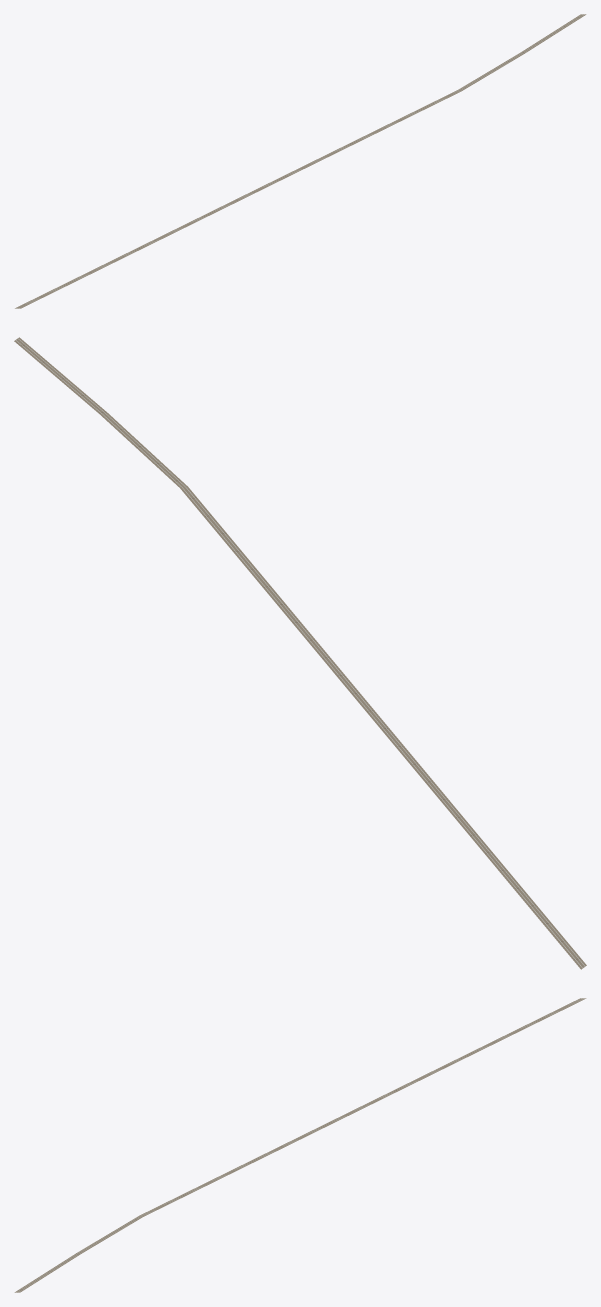
3 renders of one model, top to bottom at view 1: azimuth 90°, elevation 25°; view 2: azimuth 150°, elevation 25°; view 3: azimuth 270°, elevation 25°, orthographic. The views are drawn at different scales.
Parts seen in each view (by area): view 1: rail; view 2: rail; view 3: rail.
Boxes of the visible parts, x1,y1,x2,y2 form: rail: (15, 14, 586, 308); rail: (14, 337, 586, 969); rail: (14, 998, 586, 1292).
Bounding box in the file's own units: 500 × 0.04 × 411.
